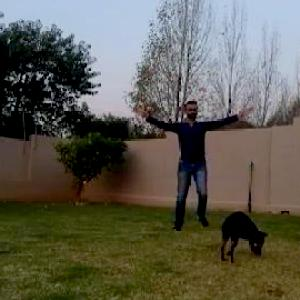takeoff: (139, 98, 262, 238)
